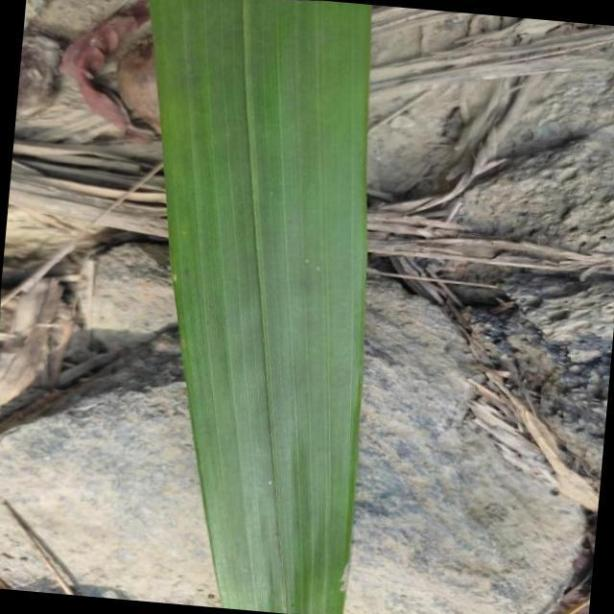Healthy: (146, 0, 370, 603)
